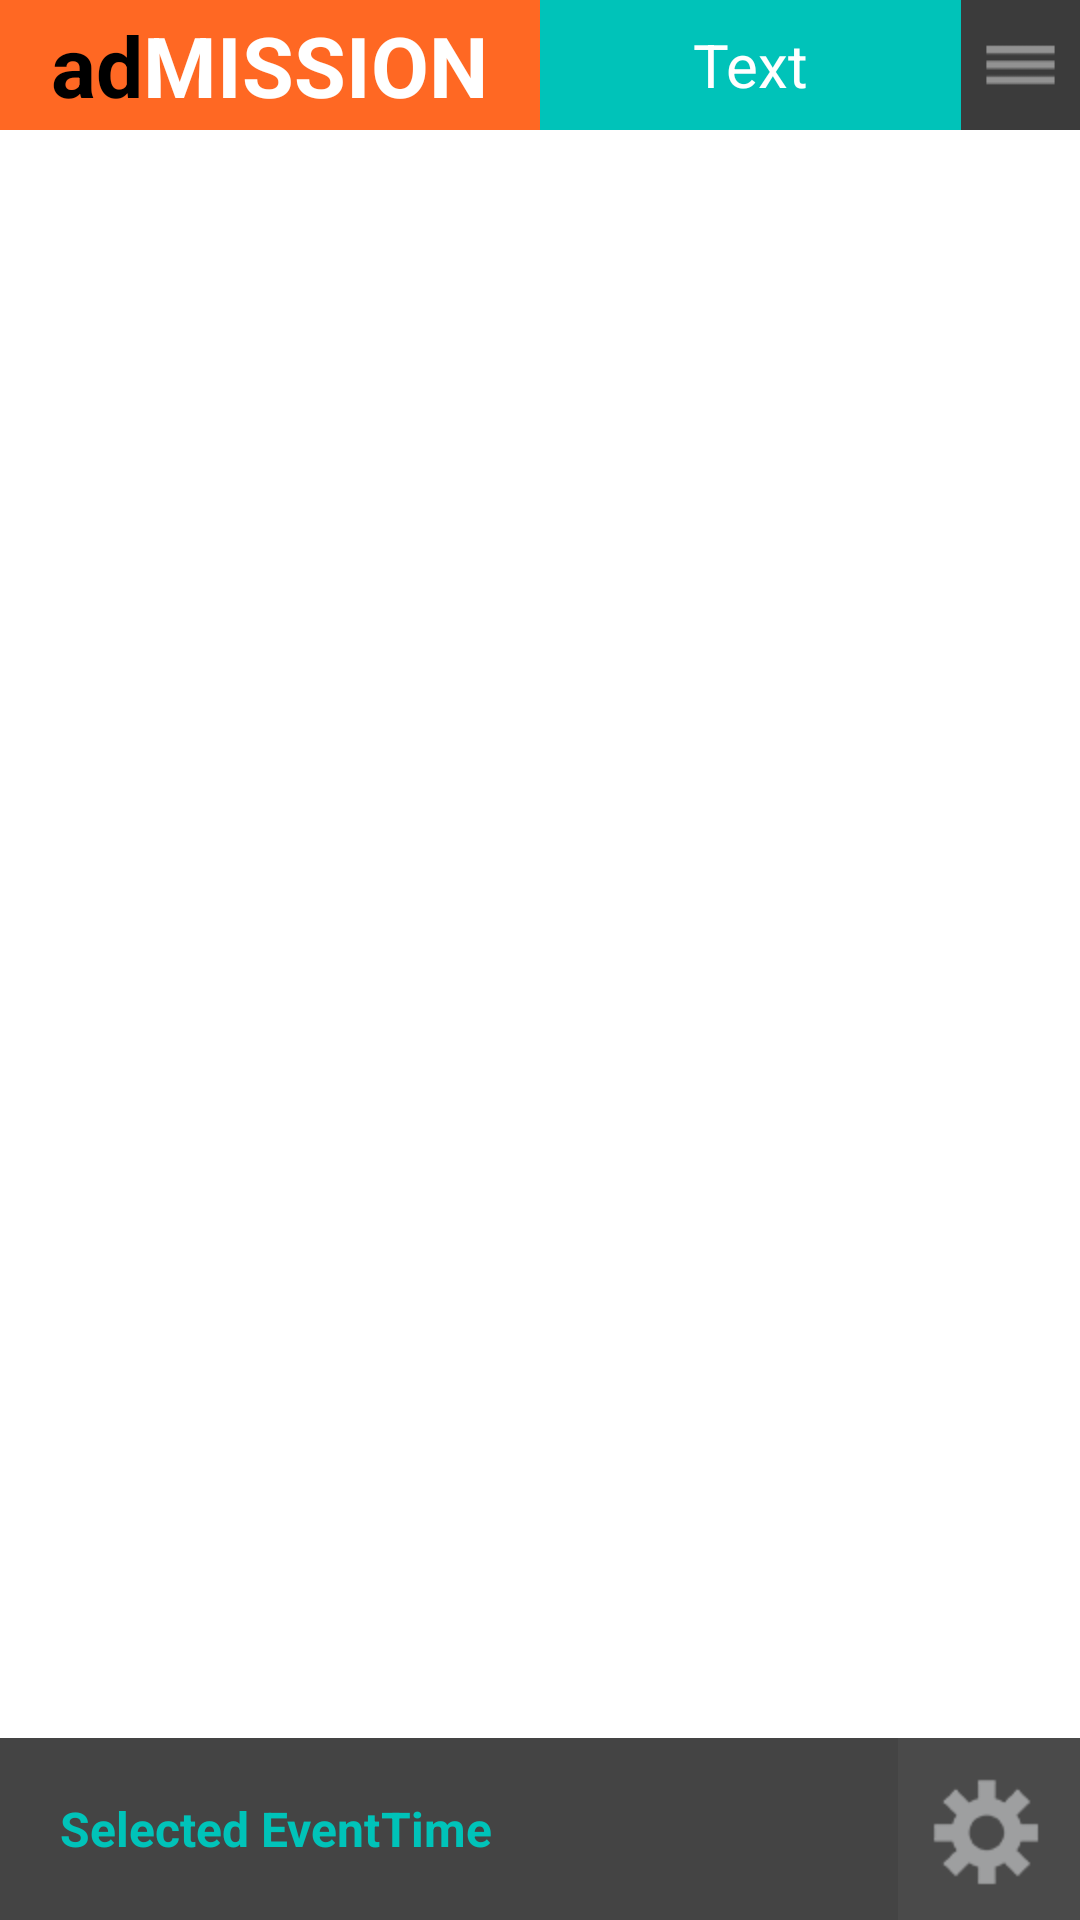

Screen size 1080*1920. Icon name, then its center in pixels as (x=x, y=y):
menu: (x=1020, y=65)
